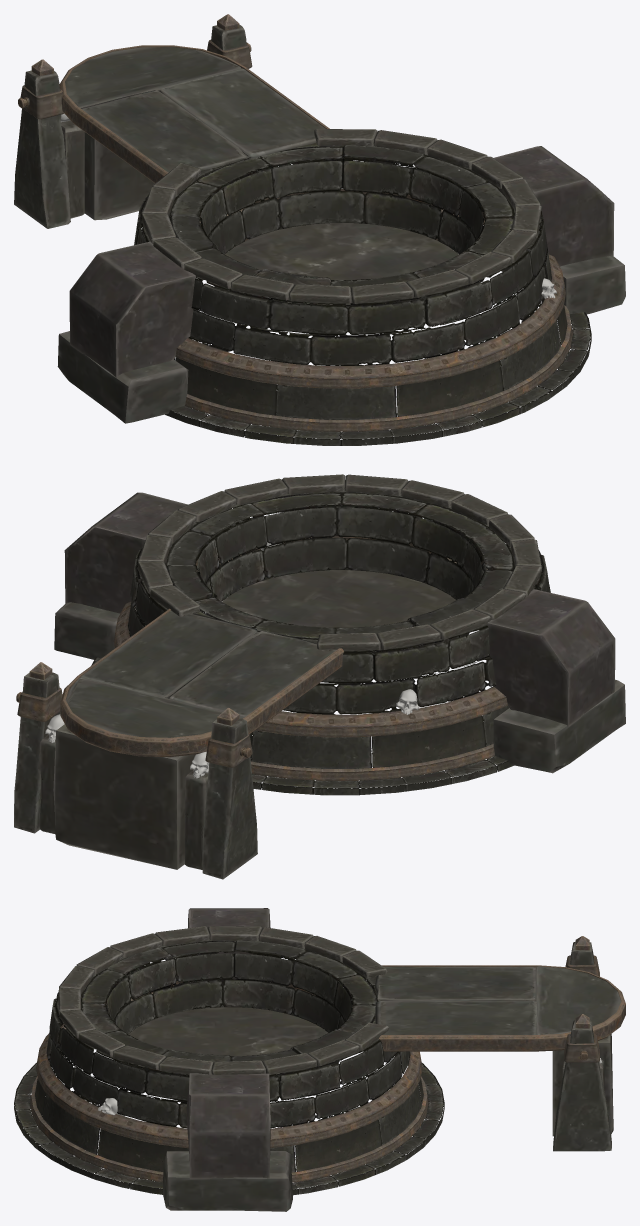
3 renders of one model, top to bottom at view 1: azimuth 30°, elevation 25°; view 2: azimuth 150°, elevation 25°; view 3: azimuth 270°, elevation 25°, orthographic. The views are drawn at different scales.
Visible parts, largest first — view 1: SM_Dowdun_Altar_A_01_LOD0; view 2: SM_Dowdun_Altar_A_01_LOD0; view 3: SM_Dowdun_Altar_A_01_LOD0.
Part boxes in pixels (x1,y1,x2,y2): SM_Dowdun_Altar_A_01_LOD0: [14, 14, 625, 445]; SM_Dowdun_Altar_A_01_LOD0: [14, 474, 625, 879]; SM_Dowdun_Altar_A_01_LOD0: [14, 908, 625, 1211].
Bounding box in the file's own units: 4.06 × 1.23 × 4.97.
Materials: 4 (4 with a texture image).
